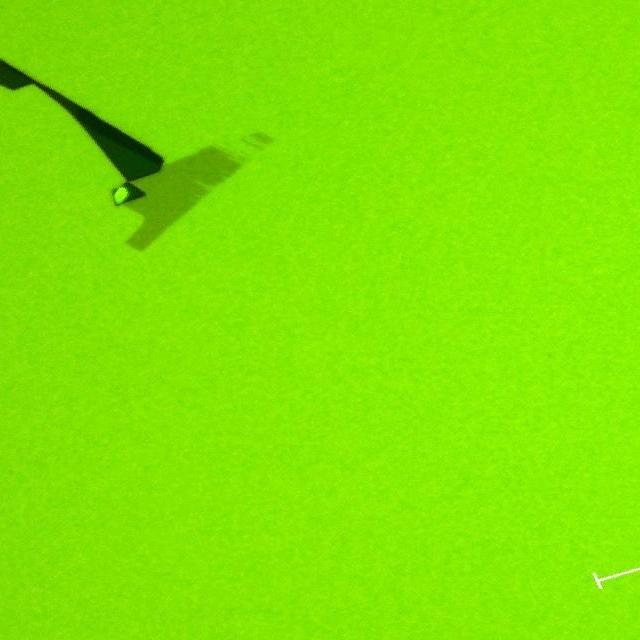monolayer-eWW4: (130, 141, 234, 260)
